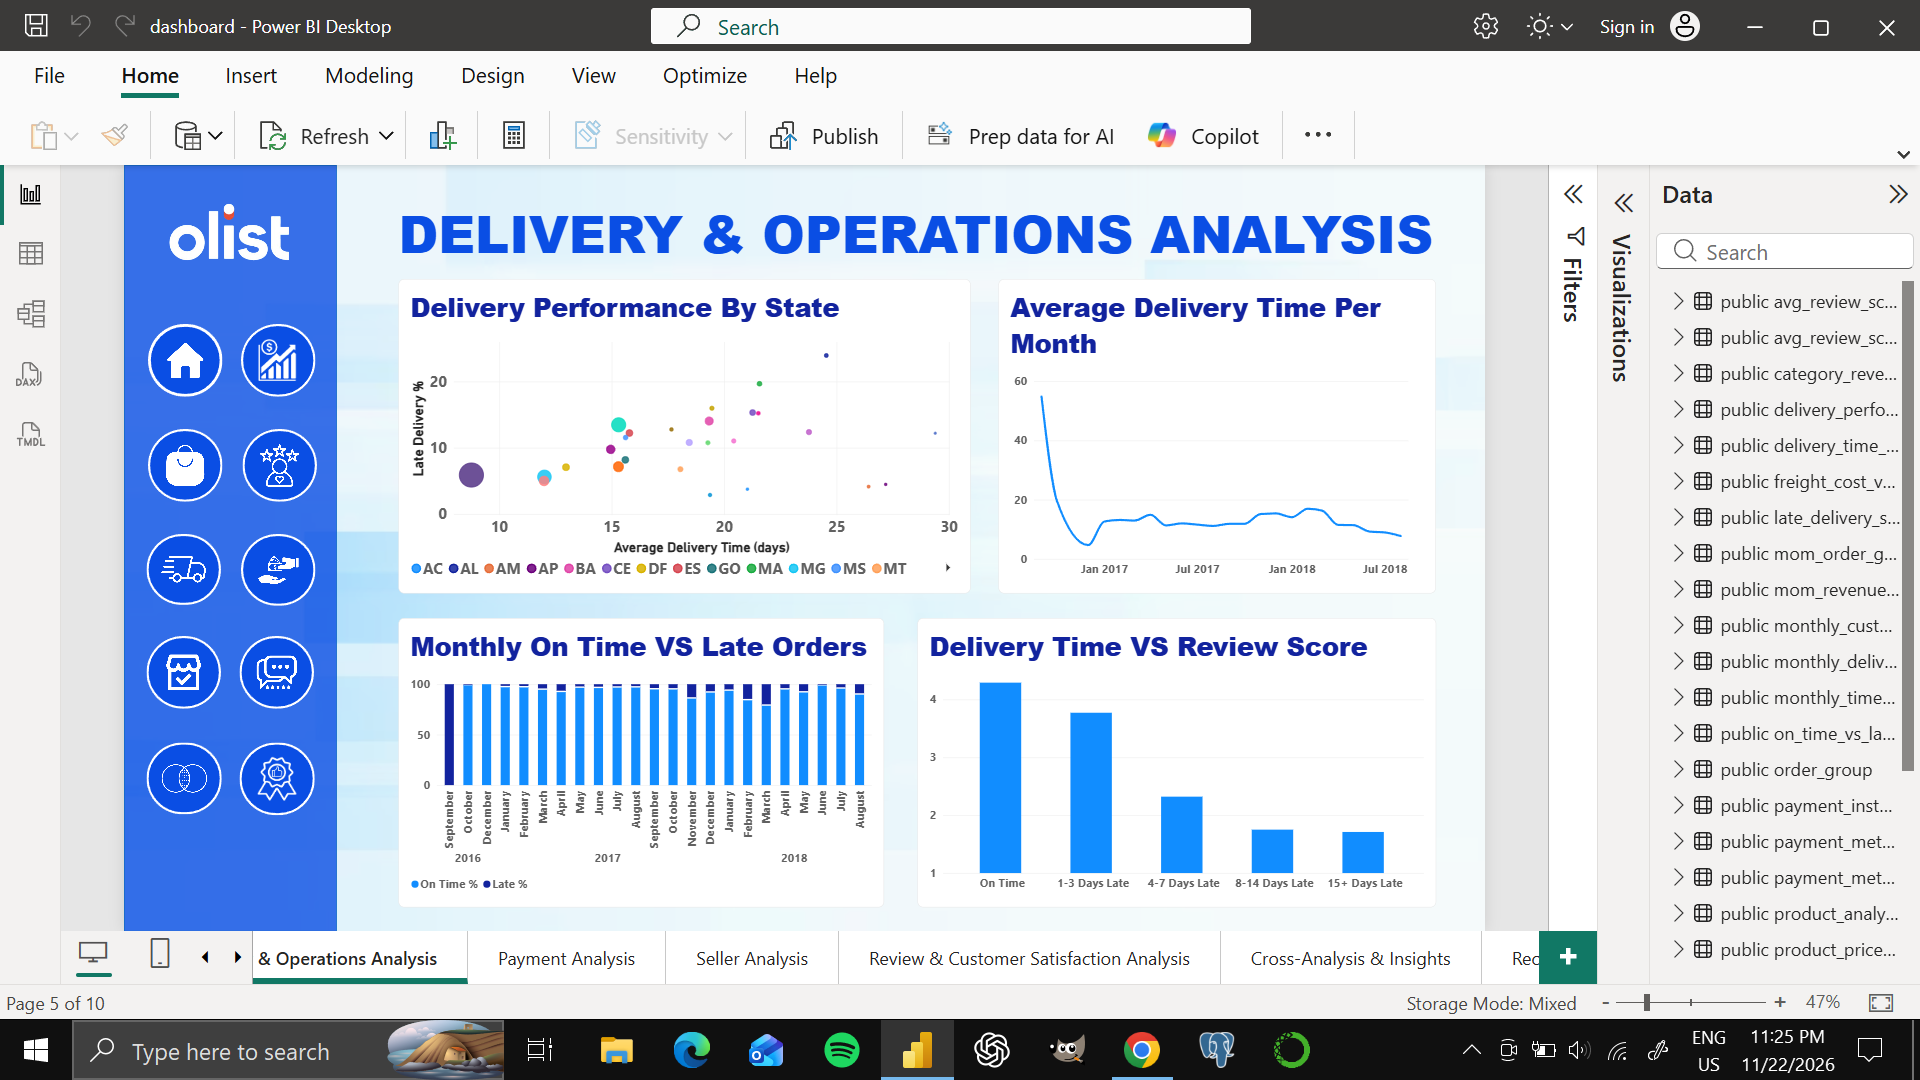

Layout of this report page (visuals, bound fields, positions):
{"tool":"powerbi","page":{"name":"Delivery & Operations Analysis","canvas":[1920,1080],"ordinal":4},"visuals":[{"type":"shape","box":[0,0,300.1,1080.8],"z":0},{"type":"image","box":[25.8,53.9,246.2,93.8],"z":1000},{"type":"actionButton","box":[33.8,223.8,105,102.5],"z":2000},{"type":"actionButton","box":[165,223.8,105,102.5],"z":3000},{"type":"actionButton","box":[33.8,371.2,105,102.5],"z":4000},{"type":"actionButton","box":[166.2,371.2,105,102.5],"z":5000},{"type":"actionButton","box":[32.5,520,105,100],"z":6000},{"type":"actionButton","box":[165,520,105,101.2],"z":7000},{"type":"actionButton","box":[31.2,665,105,102.5],"z":8000},{"type":"actionButton","box":[163.8,665,105,102.5],"z":9000},{"type":"actionButton","box":[31.2,815,106.2,101.2],"z":10000},{"type":"textbox","box":[386.8,44.5,1463,103.2],"z":11000},{"type":"columnChart","title":"Monthly On Time VS Late Orders","fields":{"Category":["public on_time_vs_late_orders_per_month.month.Variation.Date Hierarchy.Year","public on_time_vs_late_orders_per_month.month.Variation.Date Hierarchy.Month"],"Y":["Avg(public on_time_vs_late_orders_per_month.on_time_percentage)","Avg(public on_time_vs_late_orders_per_month.late_percentage)"]},"box":[386.8,637.7,684.6,407.9],"z":12000},{"type":"lineChart","title":"Average Delivery Time Per Month","fields":{"Category":["public monthly_delivery_performance.month"],"Y":["Sum(public monthly_delivery_performance.avg_delivery_time)"]},"box":[1233.2,293.1,616.6,311.8],"z":13000},{"type":"scatterChart","title":"Delivery Performance By State","fields":{"Series":["public delivery_performance_by_geography.state"],"Size":["Sum(public delivery_performance_by_geography.delivered_orders)"],"X":["Sum(public delivery_performance_by_geography.avg_delivery_time)"],"Y":["Sum(public delivery_performance_by_geography.late_delivery_percentage)"]},"box":[386.8,161.8,806.5,443.1],"z":14000},{"type":"clusteredColumnChart","title":"Delivery Time VS Review Score","fields":{"Category":["public delivery_time_vs_review_score.delay_group"],"Y":["Sum(public delivery_time_vs_review_score.avg_review_score)"]},"box":[1118.3,637.7,731.5,407.9],"z":15000},{"type":"actionButton","box":[163.8,815,106.2,102.5],"z":16000},{"type":"cardVisual","fields":{"Data":["Query1.Late Delivery Rate"]},"box":[1233.2,161.8,267.3,105.5],"z":17000},{"type":"cardVisual","fields":{"Data":["Query1.On Time Delivery Rate"]},"box":[1582.5,161.8,267.3,105.5],"z":18000}]}

Visuals, with their boxes on the page's 1920x1080 design canvas (x1, y1, x2, y2). These are canvas units, not pixel positions in the 1920x1080 screenshot, which may show the page scaled, cropped or inside an application window:
shape: x1=0 y1=0 x2=300 y2=1081
image: x1=26 y1=54 x2=272 y2=148
actionButton: x1=34 y1=224 x2=139 y2=326
actionButton: x1=165 y1=224 x2=270 y2=326
actionButton: x1=34 y1=371 x2=139 y2=474
actionButton: x1=166 y1=371 x2=271 y2=474
actionButton: x1=32 y1=520 x2=138 y2=620
actionButton: x1=165 y1=520 x2=270 y2=621
actionButton: x1=31 y1=665 x2=136 y2=768
actionButton: x1=164 y1=665 x2=269 y2=768
actionButton: x1=31 y1=815 x2=137 y2=916
textbox: x1=387 y1=44 x2=1850 y2=148
"Monthly On Time VS Late Orders" columnChart: x1=387 y1=638 x2=1071 y2=1046
"Average Delivery Time Per Month" lineChart: x1=1233 y1=293 x2=1850 y2=605
"Delivery Performance By State" scatterChart: x1=387 y1=162 x2=1193 y2=605
"Delivery Time VS Review Score" clusteredColumnChart: x1=1118 y1=638 x2=1850 y2=1046
actionButton: x1=164 y1=815 x2=270 y2=918
cardVisual - Query1.Late Delivery Rate: x1=1233 y1=162 x2=1500 y2=267
cardVisual - Query1.On Time Delivery Rate: x1=1582 y1=162 x2=1850 y2=267
